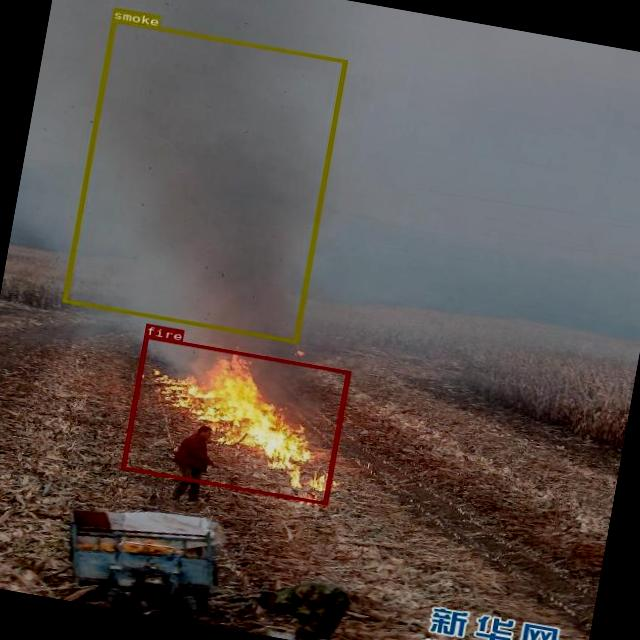fire: (120, 334, 349, 504)
smoke: (62, 18, 346, 342)
